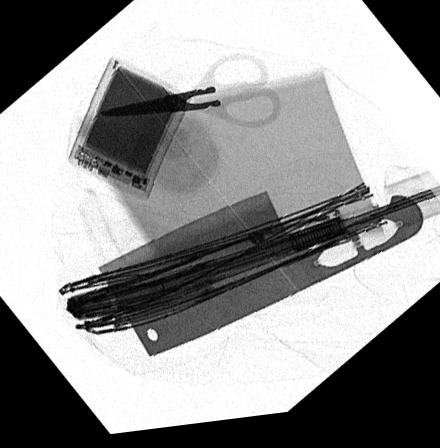Knife: (97, 192, 423, 359)
Powerbank: (66, 57, 189, 200), (96, 58, 281, 131)
